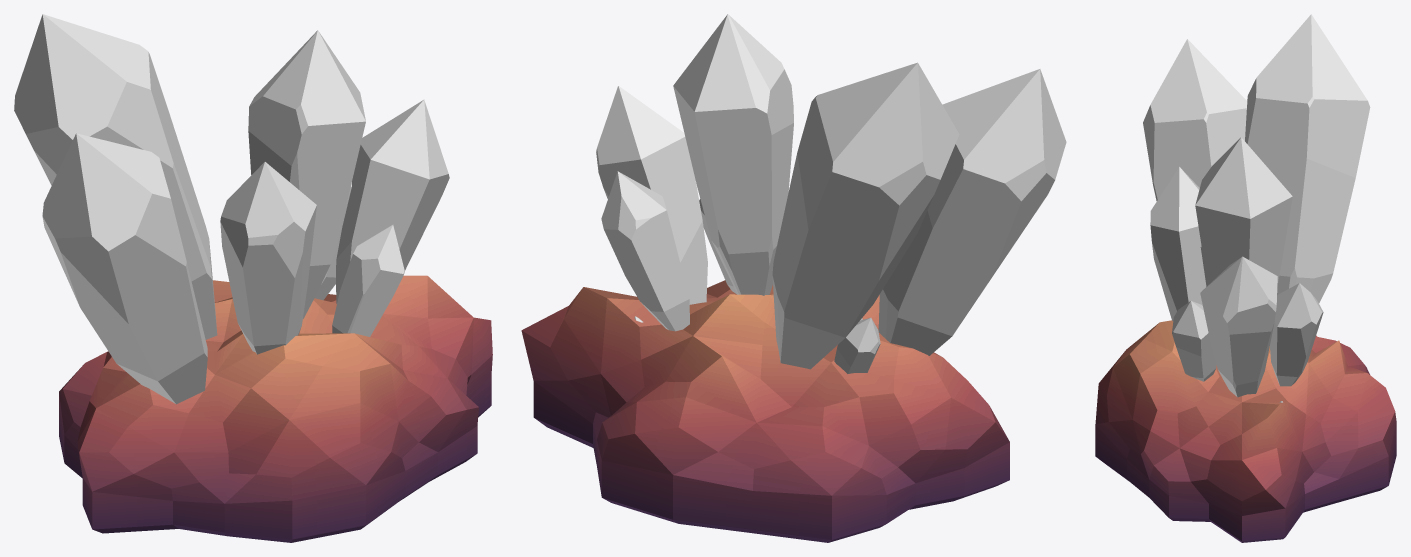
File: crystal.fbx
3 renders of one model, left to right at view 1: azimuth 30°, elevation 25°; view 2: azimuth 150°, elevation 25°; view 3: azimuth 270°, elevation 25°, orthographic. The views are drawn at different scales.
Visible parts, largest first — view 1: Sphere.011, ground; view 2: Sphere.011, ground; view 3: Sphere.011, ground.
Part boxes in pixels (left/top/right/bottom): Sphere.011: left=14, top=14, right=449, bottom=404; ground: left=59, top=275, right=492, bottom=542; Sphere.011: left=596, top=14, right=1066, bottom=373; ground: left=521, top=280, right=1009, bottom=542; Sphere.011: left=1143, top=14, right=1370, bottom=402; ground: left=1095, top=320, right=1396, bottom=542.
Bounding box in the file's own units: 1.15 × 1.07 × 0.7754.
Materials: 1 (1 with a texture image).
